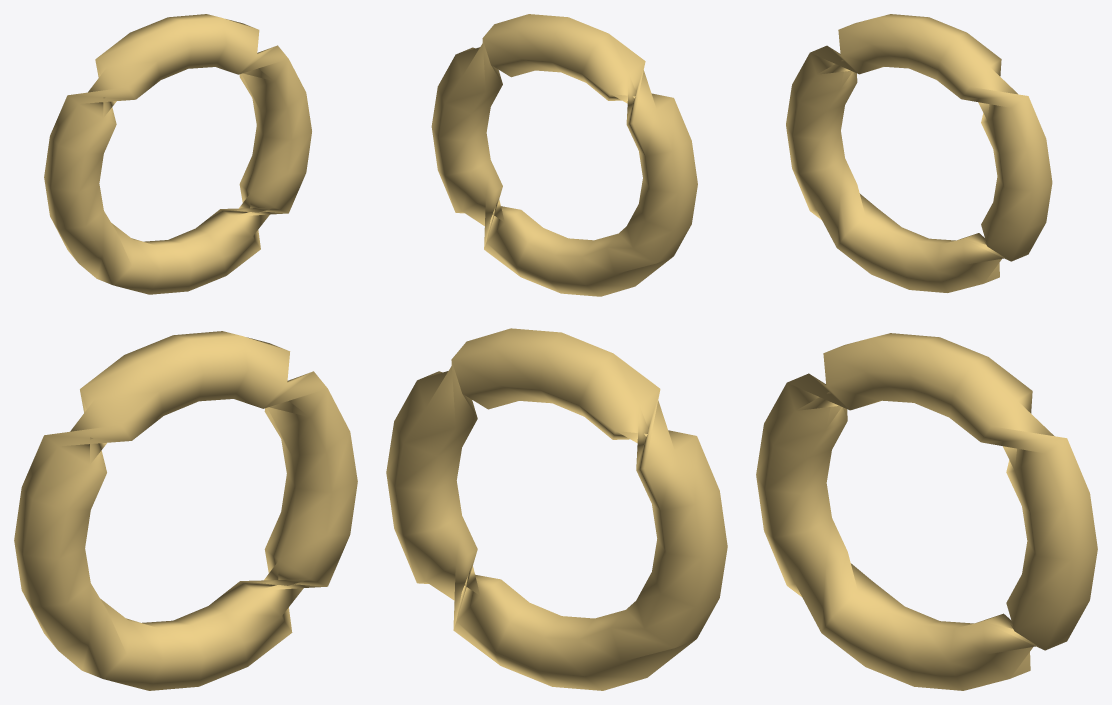
File: turtle-acc-earring-matsing.glb
3 views of the same model, side by side, from view 1: azimuth 30°, elevation 25°; view 2: azimuth 150°, elevation 25°; view 3: azimuth 330°, elevation 25° (orthographic).
Visible parts, largest first — view 1: hoop1, hoop1.001; view 2: hoop1, hoop1.001; view 3: hoop1, hoop1.001.
Boxes of the visible parts, left/top/right/bottom form: hoop1: left=14, top=331, right=357, bottom=690; hoop1.001: left=44, top=14, right=311, bottom=294; hoop1: left=386, top=328, right=727, bottom=690; hoop1.001: left=431, top=14, right=697, bottom=296; hoop1: left=756, top=333, right=1097, bottom=690; hoop1.001: left=786, top=14, right=1052, bottom=292.
Bounding box in the file's own units: 0.0755 × 0.1446 × 0.0142.
